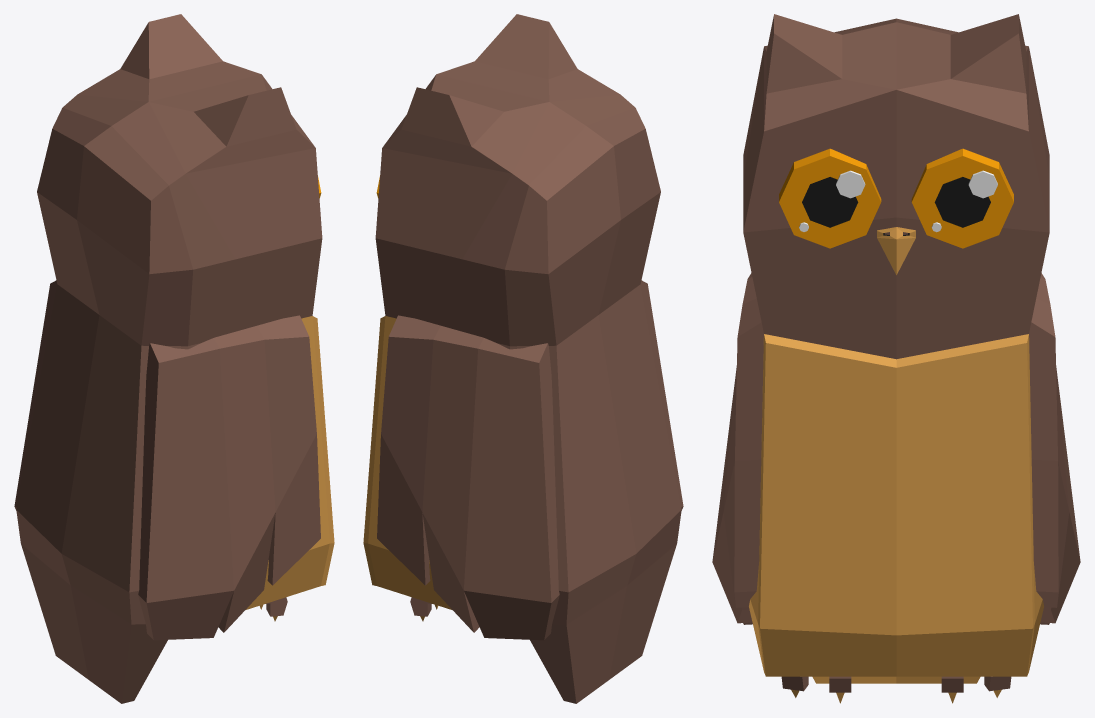
The model's file is owl.glb.
The picture shows the model from 3 angles, left to right: view 1: azimuth 30°, elevation 25°; view 2: azimuth 150°, elevation 25°; view 3: azimuth 270°, elevation 25°; orthographic projection. The views are drawn at different scales.
Visible parts, largest first — view 1: node-0; view 2: node-0; view 3: node-0.
Part boxes in pixels (box(x1,y1,x2,y2)): node-0: box(14, 14, 334, 703); node-0: box(363, 14, 683, 703); node-0: box(712, 14, 1080, 703).
Size of the model in its own units: 8.88 by 22.1 by 10.14.
